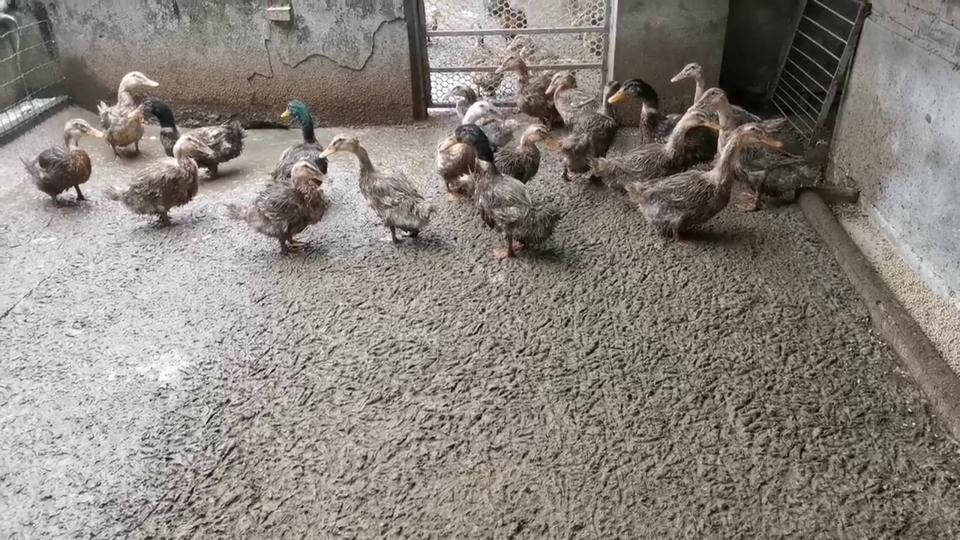duck: (637, 119, 789, 241), (445, 125, 574, 262), (693, 88, 815, 217), (327, 134, 437, 245), (128, 96, 248, 187), (591, 109, 721, 186), (111, 139, 222, 228), (614, 77, 722, 164), (676, 63, 794, 135), (252, 165, 340, 256), (25, 115, 105, 214), (563, 75, 623, 188), (497, 52, 574, 126), (440, 84, 517, 149), (277, 98, 334, 185), (103, 71, 157, 162), (542, 69, 607, 133), (499, 116, 563, 179), (470, 23, 519, 67), (504, 35, 563, 66), (427, 75, 477, 108), (572, 11, 606, 59), (423, 6, 447, 46), (497, 1, 530, 30)
